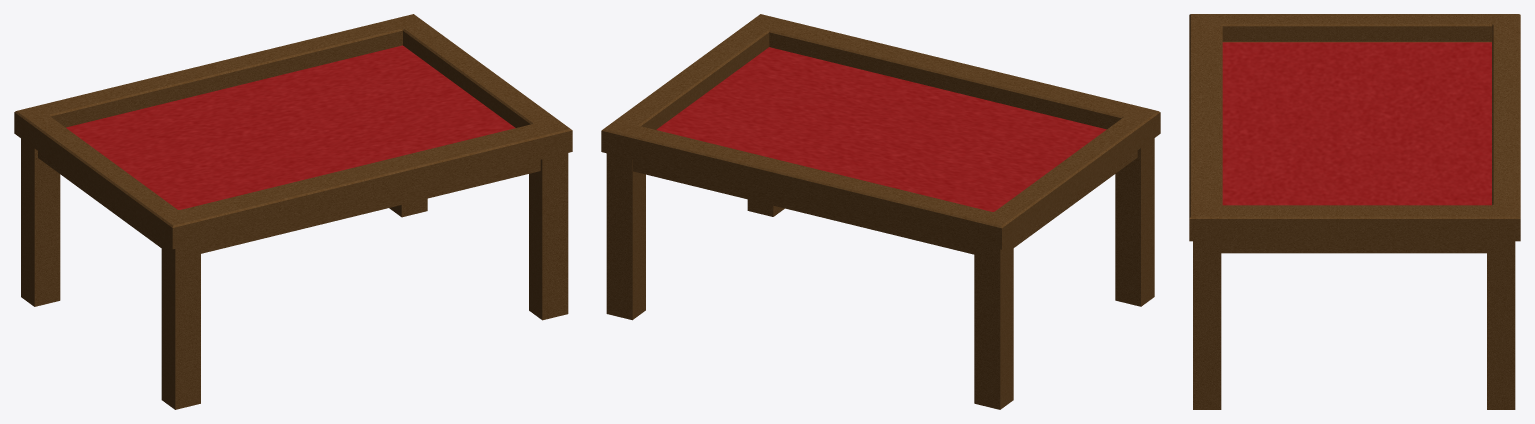
File: Tabletop (1).fbx
3 renders of one model, left to right at view 1: azimuth 30°, elevation 25°; view 2: azimuth 150°, elevation 25°; view 3: azimuth 270°, elevation 25°, orthographic. The views are drawn at different scales.
Parts seen in each view (by area): view 1: Table top (modelled); view 2: Table top (modelled); view 3: Table top (modelled).
Boxes of the visible parts, bbox=[...] form: Table top (modelled): bbox=[14, 14, 572, 409]; Table top (modelled): bbox=[601, 14, 1160, 409]; Table top (modelled): bbox=[1189, 14, 1520, 409].
Size of the model in its own units: 2129 by 944 by 1460.
